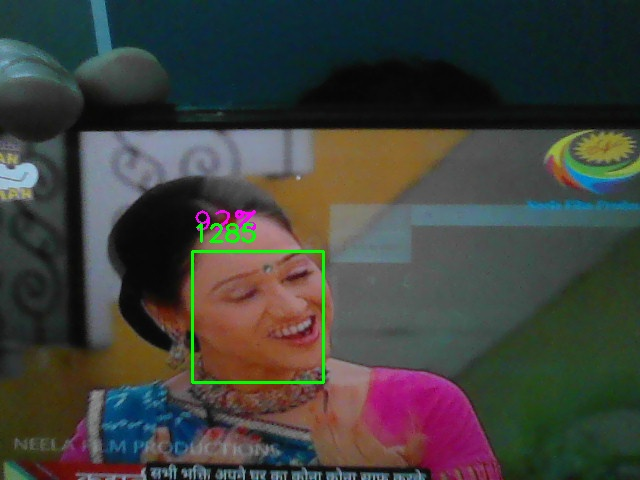fake: (192, 251, 324, 383)
